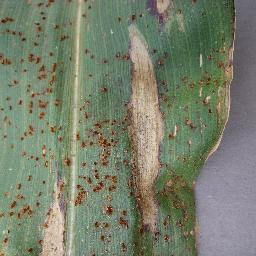Corn_Blight: (0, 0, 72, 252), (75, 121, 150, 256), (199, 2, 240, 162), (150, 117, 197, 246), (131, 27, 169, 120), (76, 86, 113, 119), (84, 46, 131, 67), (137, 0, 198, 15), (173, 70, 195, 109), (120, 14, 181, 27), (120, 66, 133, 119), (76, 0, 95, 21), (104, 69, 113, 80), (86, 74, 94, 81)
